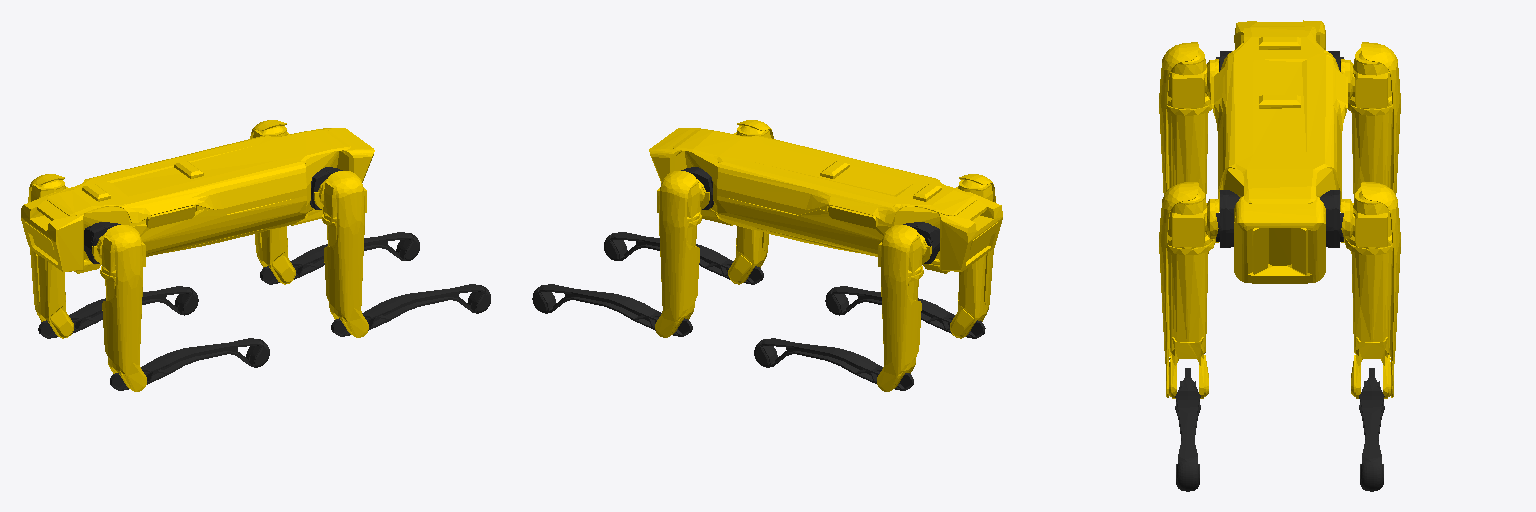
robot.urdf — spot:
<?xml version="1.0" encoding="utf-8"?>
<!--
Copyright (c) 2023 Boston Dynamics, Inc.  All rights reserved.

Downloading, reproducing, distributing or otherwise using the SDK Software
is subject to the terms and conditions of the Boston Dynamics Software
Development Kit License (20191101-BDSDK-SL).
-->
<robot name="spot">
  <!-- Robot Base Link -->
  <link name="base">
    <visual>
      <origin/>
      <geometry>
        <mesh filename="meshes/base_link_0_geom_visual_mesh.stl"/>
      </geometry>
      <material name="base"> <color rgba="1 0.8431 0 1"/></material>
    </visual>
    <collision>
      <origin xyz="0.0 0.0 -0.015"/>
      <geometry>
        <box size="0.85 0.24 0.18"/>
      </geometry>
    </collision>
    <inertial>
      <origin xyz="0 0 -0.00496172"/>
      <mass value="16.70765207"/>
      <inertia ixx="0.081543792" ixy="0.0" ixz="0.0" iyy="0.549231154" iyz="0.0" izz="0.569454373"/>
    </inertial>
  </link>

  <!-- Hip Links -->
  <link name="fl.hip">
    <visual>
      <geometry>
        <mesh filename="meshes/fl_hip_0_geom_visual_mesh.stl"/>
      </geometry>
      <material name="fl.hip"> <color rgba="0.2 0.2 0.2 1"/></material>
    </visual>
    <inertial>
      <origin xyz="-0.01586739 0.00855842 0.00000903"/>
      <inertia ixx="0.00122166" ixy="-0.00017754" ixz="0.00000043" iyy="0.00158957" iyz="-0.00000049" izz="0.00172903"/>
      <mass value="1.13688339"/>
    </inertial>
  </link>

  <link name="fr.hip">
    <visual>
      <geometry>
        <mesh filename="meshes/fr_hip_0_geom_visual_mesh.stl"/>
      </geometry>
      <material name="fr.hip"> <color rgba="0.2 0.2 0.2 1"/></material>
    </visual>
    <inertial>
      <origin xyz="-0.01586739 -0.00855842 0.00000903"/>
      <inertia ixx="0.00122166" ixy="0.00017754" ixz="0.00000043" iyy="0.00158957" iyz="0.00000049" izz="0.00172903"/>
      <mass value="1.13688339"/>
    </inertial>
  </link>

  <link name="hl.hip">
    <visual>
      <geometry>
        <mesh filename="meshes/hl_hip_0_geom_visual_mesh.stl"/>
      </geometry>
      <material name="hl.hip"> <color rgba="0.2 0.2 0.2 1"/></material>
    </visual>
    <inertial>
      <origin xyz="0.01586739 0.00855842 0.00000903"/>
      <inertia ixx="0.00122166" ixy="0.00017754" ixz="-0.00000043" iyy="0.00158957" iyz="-0.00000049" izz="0.00172903"/>
      <mass value="1.13688339"/>
    </inertial>
  </link>

  <link name="hr.hip">
    <visual>
      <geometry>
        <mesh filename="meshes/hr_hip_0_geom_visual_mesh.stl"/>
      </geometry>
      <material name="hr.hip"> <color rgba="0.2 0.2 0.2 1"/></material>
    </visual>
    <inertial>
      <origin xyz="0.01586739 -0.00855842 0.00000903"/>
      <inertia ixx="0.00122166" ixy="-0.00017754" ixz="-0.00000043" iyy="0.00158957" iyz="0.00000049" izz="0.00172903"/>
      <mass value="1.13688339"/>
    </inertial>
  </link>

  <!-- Upper Leg Links -->
  <link name="fl.uleg">
    <visual>
      <geometry>
        <mesh filename="meshes/l_uleg_0_geom_visual_mesh.stl"/>
      </geometry>
      <material name="fl.uleg"> <color rgba="1 0.8431 0 1"/></material>
    </visual>
    <collision>
      <origin xyz="0.0 0.0 -0.115"/>
      <geometry>
        <cylinder radius="0.045" length="0.35"/>
      </geometry>
    </collision>
    <inertial>
      <origin xyz="0.00214442 -0.01110184 -0.07881204"/>
      <inertia ixx="0.02692501" ixy="-0.00008782" ixz="0.00054873" iyy="0.02583907" iyz="0.00207146" izz="0.00318737"/>
      <mass value="2.25620359"/>
    </inertial>
  </link>

  <link name="fr.uleg">
    <visual>
      <geometry>
        <mesh filename="meshes/r_uleg_0_geom_visual_mesh.stl"/>
      </geometry>
      <material name="fr.uleg"> <color rgba="1 0.8431 0 1"/></material>
    </visual>
    <collision>
      <origin xyz="0.0 0.0 -0.115"/>
      <geometry>
        <cylinder radius="0.045" length="0.35"/>
      </geometry>
    </collision>
    <inertial>
      <origin xyz="0.00214442 0.01110184 -0.07881204"/>
      <inertia ixx="0.02692501" ixy="0.00008782" ixz="0.00054873" iyy="0.02583907" iyz="-0.00207146" izz="0.00318737"/>
      <mass value="2.25620359"/>
    </inertial>
  </link>

  <link name="hl.uleg">
    <visual>
      <geometry>
        <mesh filename="meshes/l_uleg_0_geom_visual_mesh.stl"/>
      </geometry>
      <material name="hl.uleg"> <color rgba="1 0.8431 0 1"/></material>
    </visual>
    <collision>
      <origin xyz="0.0 0.0 -0.115"/>
      <geometry>
        <cylinder radius="0.045" length="0.35"/>
      </geometry>
    </collision>
    <inertial>
      <origin xyz="0.00214442 -0.01110184 -0.07881204"/>
      <inertia ixx="0.02692501" ixy="-0.00008782" ixz="0.00054873" iyy="0.02583907" iyz="0.00207146" izz="0.00318737"/>
      <mass value="2.25620359"/>
    </inertial>
  </link>

  <link name="hr.uleg">
    <visual>
      <geometry>
        <mesh filename="meshes/r_uleg_0_geom_visual_mesh.stl"/>
      </geometry>
      <material name="hr.uleg"> <color rgba="1 0.8431 0 1"/></material>
    </visual>
    <collision>
      <origin xyz="0.0 0.0 -0.115"/>
      <geometry>
        <cylinder radius="0.045" length="0.35"/>
      </geometry>
    </collision>
    <inertial>
      <origin xyz="0.00214442 0.01110184 -0.07881204"/>
      <inertia ixx="0.02692501" ixy="0.00008782" ixz="0.00054873" iyy="0.02583907" iyz="-0.00207146" izz="0.00318737"/>
      <mass value="2.25620359"/>
    </inertial>
  </link>

  <!--Lower Leg Links -->
  <link name="fl.lleg">
    <visual>
      <geometry>
        <mesh filename="meshes/lleg_0_geom_visual_mesh.stl"/>
      </geometry>
      <material name="fl.lleg"> <color rgba="0.2 0.2 0.2 1"/></material>
    </visual>
    <collision>
      <origin rpy="1.5708 0.0 0.0" xyz="0.0 0.0 -0.33532"/>
      <geometry>
        <cylinder radius="0.033" length="0.03"/>
      </geometry>
    </collision>
    <collision>
      <origin rpy="0.0 -0.045 0.0" xyz="0.0105 0.0 -0.15"/>
      <geometry>
        <cylinder radius="0.015" length="0.35"/>
      </geometry>
    </collision>
    <inertial>
      <origin xyz="0.00597360 0.0 -0.17466427"/>
      <inertia ixx="0.00701356" ixy="0.0" ixz="0.00006600" iyy="0.00709946" iyz="0.0" izz="0.00014529"/>
      <mass value="0.330"/>
    </inertial>
  </link>

  <link name="fr.lleg">
    <visual>
      <geometry>
        <mesh filename="meshes/lleg_0_geom_visual_mesh.stl"/>
      </geometry>
      <material name="fr.lleg"> <color rgba="0.2 0.2 0.2 1"/></material>
    </visual>
    <collision>
      <origin rpy="1.5708 0.0 0.0" xyz="0.0 0.0 -0.33532"/>
      <geometry>
        <cylinder radius="0.033" length="0.03"/>
      </geometry>
    </collision>
    <collision>
      <origin rpy="0.0 -0.045 0.0" xyz="0.0105 0.0 -0.15"/>
      <geometry>
        <cylinder radius="0.015" length="0.35"/>
      </geometry>
    </collision>
    <inertial>
      <origin xyz="0.00597360 0.0 -0.17466427"/>
      <inertia ixx="0.00701356" ixy="0.0" ixz="0.00006600" iyy="0.00709946" iyz="0.0" izz="0.00014529"/>
      <mass value="0.330"/>
    </inertial>
  </link>

  <link name="hl.lleg">
    <visual>
      <geometry>
        <mesh filename="meshes/lleg_0_geom_visual_mesh.stl"/>
      </geometry>
      <material name="hl.lleg"> <color rgba="0.2 0.2 0.2 1"/></material>
    </visual>
    <collision>
      <origin rpy="1.5708 0.0 0.0" xyz="0.0 0.0 -0.33532"/>
      <geometry>
        <cylinder radius="0.033" length="0.03"/>
      </geometry>
    </collision>
    <collision>
      <origin rpy="0.0 -0.045 0.0" xyz="0.0105 0.0 -0.15"/>
      <geometry>
        <cylinder radius="0.015" length="0.35"/>
      </geometry>
    </collision>
    <inertial>
      <origin xyz="0.00597360 0.0 -0.17466427"/>
      <inertia ixx="0.00701356" ixy="0.0" ixz="0.00006600" iyy="0.00709946" iyz="0.0" izz="0.00014529"/>
      <mass value="0.330"/>
    </inertial>
  </link>

  <link name="hr.lleg">
    <visual>
      <geometry>
        <mesh filename="meshes/lleg_0_geom_visual_mesh.stl"/>
      </geometry>
      <material name="hr.lleg"> <color rgba="0.2 0.2 0.2 1"/></material>
    </visual>
    <collision>
      <origin rpy="1.5708 0.0 0.0" xyz="0.0 0.0 -0.33532"/>
      <geometry>
        <cylinder radius="0.033" length="0.03"/>
      </geometry>
    </collision>
    <collision>
      <origin rpy="0.0 -0.045 0.0" xyz="0.0105 0.0 -0.15"/>
      <geometry>
        <cylinder radius="0.015" length="0.35"/>
      </geometry>
    </collision>
    <inertial>
      <origin xyz="0.00597360 0.0 -0.17466427"/>
      <inertia ixx="0.00701356" ixy="0.0" ixz="0.00006600" iyy="0.00709946" iyz="0.0" izz="0.00014529"/>
      <mass value="0.330"/>
    </inertial>
  </link>

  <!--Skeleton: HX Joints -->
  <joint name="fl.hx" type="revolute">
    <parent link="base"/>
    <child link="fl.hip"/>
    <origin xyz="0.29785 0.05500 0.00000"/>
    <axis xyz="1 0 0"/>
    <limit effort="45" lower="-0.785398" upper="0.785398" velocity="100"/>
    <dynamics damping="0" friction="0"/>
  </joint>

  <joint name="fr.hx" type="revolute">
    <parent link="base"/>
    <child link="fr.hip"/>
    <origin xyz="0.29785 -0.05500 0.00000"/>
    <axis xyz="1 0 0"/>
    <limit effort="45" lower="-0.785398" upper="0.785398" velocity="100"/>
    <dynamics damping="0" friction="0"/>
  </joint>

  <joint name="hl.hx" type="revolute">
    <parent link="base"/>
    <child link="hl.hip"/>
    <origin xyz="-0.29785 0.05500 0.00000"/>
    <axis xyz="1 0 0"/>
    <limit effort="45" lower="-0.785398" upper="0.785398" velocity="100"/>
    <dynamics damping="0" friction="0"/>
  </joint>

  <joint name="hr.hx" type="revolute">
    <parent link="base"/>
    <child link="hr.hip"/>
    <origin xyz="-0.29785 -0.05500 0.00000"/>
    <axis xyz="1 0 0"/>
    <limit effort="45" lower="-0.785398" upper="0.785398" velocity="100"/>
    <dynamics damping="0" friction="0"/>
  </joint>

  <!--Skeleton: HY Joints -->
  <joint name="fl.hy" type="revolute">
    <parent link="fl.hip"/>
    <child link="fl.uleg"/>
    <origin xyz="0.0 0.110945 0.0"/>
    <axis xyz="0 1 0"/>
    <limit effort="45" lower="-0.898845" upper="2.295108" velocity="100"/>
    <dynamics damping="0" friction="0"/>
  </joint>

  <joint name="fr.hy" type="revolute">
    <parent link="fr.hip"/>
    <child link="fr.uleg"/>
    <origin xyz="0.0 -0.110945 0.0"/>
    <axis xyz="0 1 0"/>
    <limit effort="45" lower="-0.898845" upper="2.295108" velocity="100"/>
    <dynamics damping="0" friction="0"/>
  </joint>

  <joint name="hl.hy" type="revolute">
    <parent link="hl.hip"/>
    <child link="hl.uleg"/>
    <origin xyz="0.0 0.110945 0.0"/>
    <axis xyz="0 1 0"/>
    <limit effort="45" lower="-0.898845" upper="2.295108" velocity="100"/>
    <dynamics damping="0" friction="0"/>
  </joint>

  <joint name="hr.hy" type="revolute">
    <parent link="hr.hip"/>
    <child link="hr.uleg"/>
    <origin xyz="0.0 -0.110945 0.0"/>
    <axis xyz="0 1 0"/>
    <limit effort="45" lower="-0.898845" upper="2.295108" velocity="100"/>
    <dynamics damping="0" friction="0"/>
  </joint>

  <!--Skeleton: KN Joints -->
  <joint name="fl.kn" type="revolute">
    <parent link="fl.uleg"/>
    <child link="fl.lleg"/>
    <origin xyz="0.025 0.000 -0.3205"/>
    <axis xyz="0 1 0"/>
    <limit effort="115" lower="-2.7929" upper="-0.2471" velocity="100"/>
    <dynamics damping="0" friction="0"/>
  </joint>

  <joint name="fr.kn" type="revolute">
    <parent link="fr.uleg"/>
    <child link="fr.lleg"/>
    <origin xyz="0.025 0.000 -0.3205"/>
    <axis xyz="0 1 0"/>
    <limit effort="115" lower="-2.7929" upper="-0.2471" velocity="100"/>
    <dynamics damping="0" friction="0"/>
  </joint>

  <joint name="hl.kn" type="revolute">
    <parent link="hl.uleg"/>
    <child link="hl.lleg"/>
    <origin xyz="0.025 0.000 -0.3205"/>
    <axis xyz="0 1 0"/>
    <limit effort="115" lower="-2.7929" upper="-0.2471" velocity="100"/>
    <dynamics damping="0" friction="0"/>
  </joint>

  <joint name="hr.kn" type="revolute">
    <parent link="hr.uleg"/>
    <child link="hr.lleg"/>
    <origin xyz="0.025 0.000 -0.3205"/>
    <axis xyz="0 1 0"/>
    <limit effort="115" lower="-2.7929" upper="-0.2471" velocity="100"/>
    <dynamics damping="0" friction="0"/>
  </joint>

  <!-- Arm Links -->
  <!-- <link name="arm0.link_sh0">
    <visual>
      <geometry>
        <mesh filename="meshes/arm0.link_sh0.stl"/>
      </geometry>
    </visual>
    <inertial>
      <origin xyz="-0.008399 0.000272 -0.024603"/>
      <inertia ixx="0.008896" ixy="0.000005" ixz="-0.000193" iyy="0.004922" iyz="0.000033" izz="0.0073030"/>
      <mass value="1.904699"/>
    </inertial>
  </link>

  <link name="arm0.link_sh1">
    <visual>
      <geometry>
        <mesh filename="meshes/arm0.link_sh1.stl"/>
      </geometry>
    </visual>
    <visual>
      <geometry>
        <mesh filename="meshes/arm0.link_hr0.stl"/>
      </geometry>
    </visual>
    <inertial>
      <origin xyz="0.08084909 -0.00167243 0.00045644"/>
      <inertia ixx="0.00261526" ixy="-0.00040406" ixz="0.00010019" iyy="0.02703868" iyz="0.00000547" izz="0.02819929"/>
      <mass value="1.85701942"/>
    </inertial>
  </link>

  <link name="arm0.link_el0">
    <visual>
      <geometry>
        <mesh filename="meshes/arm0.link_el0.stl"/>
      </geometry>
    </visual>
    <inertial>
      <origin xyz="0.04476621 -0.00271130 0.04991363"/>
      <inertia ixx="0.00175909" ixy="0.00006087" ixz="0.00092380" iyy="0.00269233" iyz="0.00005217" izz="0.00202854"/>
      <mass value="0.94831958"/>
    </inertial>
  </link>

  <link name="arm0.link_el1">
    <visual>
      <geometry>
        <mesh filename="meshes/arm0.link_el1.stl"/>
      </geometry>
    </visual>
    <inertial>
      <origin xyz="-0.16867073 -0.01616121 0.00001149"/>
      <inertia ixx="0.00117710" ixy="-0.00260549" ixz="0.00000156" iyy="0.01649389" iyz="-0.00000287" izz="0.01689901"/>
      <mass value="1.01754820"/>
    </inertial>
  </link>

  <link name="arm0.link_wr0">
    <visual>
      <geometry>
        <mesh filename="meshes/arm0.link_wr0.stl"/>
      </geometry>
    </visual>
    <inertial>
      <origin xyz="0.00952465 -0.01144406 0.00000186"/>
      <inertia ixx="0.00046738" ixy="0.00006957" ixz="0.00000040" iyy="0.00044968" iyz="0.00000016" izz="0.00053616"/>
      <mass value="0.58263740"/>
    </inertial>
  </link>

  <link name="arm0.link_wr1">
    <visual>
      <geometry>
        <mesh filename="meshes/arm0.link_wr1.stl"/>
      </geometry>
    </visual>
    <inertial>
      <origin xyz="0.09751283 0.00009265 -0.01120523"/>
      <inertia ixx="0.00098836" ixy="-0.00000126" ixz="-0.00036919" iyy="0.00197018" iyz="-0.00000074" izz="0.00165791"/>
      <mass value="0.93335298"/>
    </inertial>
  </link>

  <link name="arm0.link_fngr">
    <visual>
      <geometry>
        <mesh filename="meshes/arm0.link_fngr.stl"/>
      </geometry>
    </visual>
    <inertial>
      <origin xyz="0.03565178 0.00067200 -0.01227516"/>
      <inertia ixx="0.00025226" ixy="-0.00000536" ixz="-0.00015067" iyy="0.00048453" iyz="0.00000184" izz="0.00059145"/>
      <mass value="0.22383315"/>
    </inertial>
  </link> -->

  <!-- Arm Joints -->
  <!-- <joint name="arm0.sh0" type="revolute">
    <parent link="base"/>
    <child link="arm0.link_sh0"/>
    <origin xyz="0.292 0.0 0.188"/>
    <axis xyz="0 0 1"/>
    <limit effort="90.9" lower="-2.61799" upper="3.14159" velocity="999"/>
    <dynamics damping="0" friction="10"/>
  </joint>

  <joint name="arm0.sh1" type="revolute">
    <parent link="arm0.link_sh0"/>
    <child link="arm0.link_sh1"/>
    <origin xyz="0.0 0.0 0.0"/>
    <axis xyz="0 1 0"/>
    <limit effort="181.8" lower="-3.14159" upper="0.523599" velocity="999"/>
    <dynamics damping="0" friction="10"/>
  </joint>

  <joint name="arm0.el0" type="revolute">
    <parent link="arm0.link_sh1"/>
    <child link="arm0.link_el0"/>
    <origin xyz="0.3385 0 0"/>
    <axis xyz="0 1 0"/>
    <limit effort="90.9" lower="0" upper="3.14159" velocity="999"/>
    <dynamics damping="0" friction="10"/>
  </joint>

  <joint name="arm0.el1" type="revolute">
    <parent link="arm0.link_el0"/>
    <child link="arm0.link_el1"/>
    <origin xyz="0.40330 0.0 0.0750"/>
    <axis xyz="1 0 0"/>
    <limit effort="30.3" lower="-2.792530" upper="2.792530" velocity="999"/>
    <dynamics damping="0" friction="10"/>
  </joint>

  <joint name="arm0.wr0" type="revolute">
    <parent link="arm0.link_el1"/>
    <child link="arm0.link_wr0"/>
    <axis xyz="0 1 0"/>
    <limit effort="30.3" lower="-1.8326" upper="1.8326" velocity="999"/>
    <dynamics damping="0" friction="10"/>
  </joint>

  <joint name="arm0.wr1" type="revolute">
    <parent link="arm0.link_wr0"/>
    <child link="arm0.link_wr1"/>
    <axis xyz="1 0 0"/>
    <limit effort="30.3" lower="-2.87989" upper="2.87979" velocity="999"/>
    <dynamics damping="0" friction="10"/>
  </joint>

  <joint name="arm0.f1x" type="revolute">
    <parent link="arm0.link_wr1"/>
    <child link="arm0.link_fngr"/>
    <origin xyz="0.11745 0 0.014820"/>
    <axis xyz="0 1 0"/>
    <limit effort="15.32" lower="-1.5708" upper="0.0" velocity="999"/>
    <dynamics damping="0" friction="10"/>
  </joint> -->
</robot>

--- Render facts (derived) ---
The picture shows the robot from 3 angles, left to right: view 1: azimuth 30°, elevation 25°; view 2: azimuth 150°, elevation 25°; view 3: azimuth 270°, elevation 25°; orthographic projection.
Model spot with 13 links and 12 joints (12 revolute), rooted at base, posed joints at zero except 4 at the middle of their limits (fl.kn = -1.52, fr.kn = -1.52, hl.kn = -1.52, hr.kn = -1.52).
Visible links, largest first — view 1: base, hr.uleg, fr.uleg, hl.uleg, hr.lleg, fr.lleg, fl.uleg, hl.lleg, fl.lleg, hr.hip; view 2: base, hl.uleg, fl.uleg, hr.uleg, fl.lleg, hl.lleg, fr.uleg, hr.lleg, fr.lleg, hl.hip; view 3: base, fl.uleg, fr.uleg, hl.uleg, hr.uleg, fr.lleg, fl.lleg, fl.hip, fr.hip.
Link boxes in pixels (left/top/right/bottom): base: left=21, top=128, right=374, bottom=273; hr.uleg: left=92, top=225, right=146, bottom=391; fr.uleg: left=314, top=171, right=368, bottom=337; hl.uleg: left=28, top=174, right=73, bottom=338; hr.lleg: left=110, top=338, right=269, bottom=390; fr.lleg: left=331, top=284, right=490, bottom=336; fl.uleg: left=250, top=120, right=295, bottom=284; hl.lleg: left=38, top=286, right=198, bottom=338; fl.lleg: left=260, top=232, right=419, bottom=284; hr.hip: left=84, top=222, right=120, bottom=263; base: left=649, top=128, right=1002, bottom=273; hl.uleg: left=877, top=225, right=931, bottom=391; fl.uleg: left=655, top=171, right=709, bottom=337; hr.uleg: left=950, top=174, right=995, bottom=338; fl.lleg: left=532, top=284, right=692, bottom=336; hl.lleg: left=754, top=338, right=913, bottom=390; fr.uleg: left=728, top=120, right=773, bottom=284; hr.lleg: left=825, top=286, right=985, bottom=338; fr.lleg: left=604, top=232, right=763, bottom=284; hl.hip: left=903, top=222, right=939, bottom=263; base: left=1211, top=20, right=1347, bottom=283; fl.uleg: left=1341, top=182, right=1400, bottom=398; fr.uleg: left=1159, top=182, right=1218, bottom=398; hl.uleg: left=1341, top=42, right=1400, bottom=253; hr.uleg: left=1159, top=42, right=1218, bottom=253; fr.lleg: left=1175, top=368, right=1200, bottom=491; fl.lleg: left=1359, top=368, right=1384, bottom=491; fl.hip: left=1320, top=190, right=1343, bottom=247; fr.hip: left=1216, top=190, right=1239, bottom=247.
Bounding box of the posed robot: 1.12 × 0.436 × 0.465 m (x, y, z).
13 mesh visuals loaded from 8 distinct referenced files (8 binary STL).